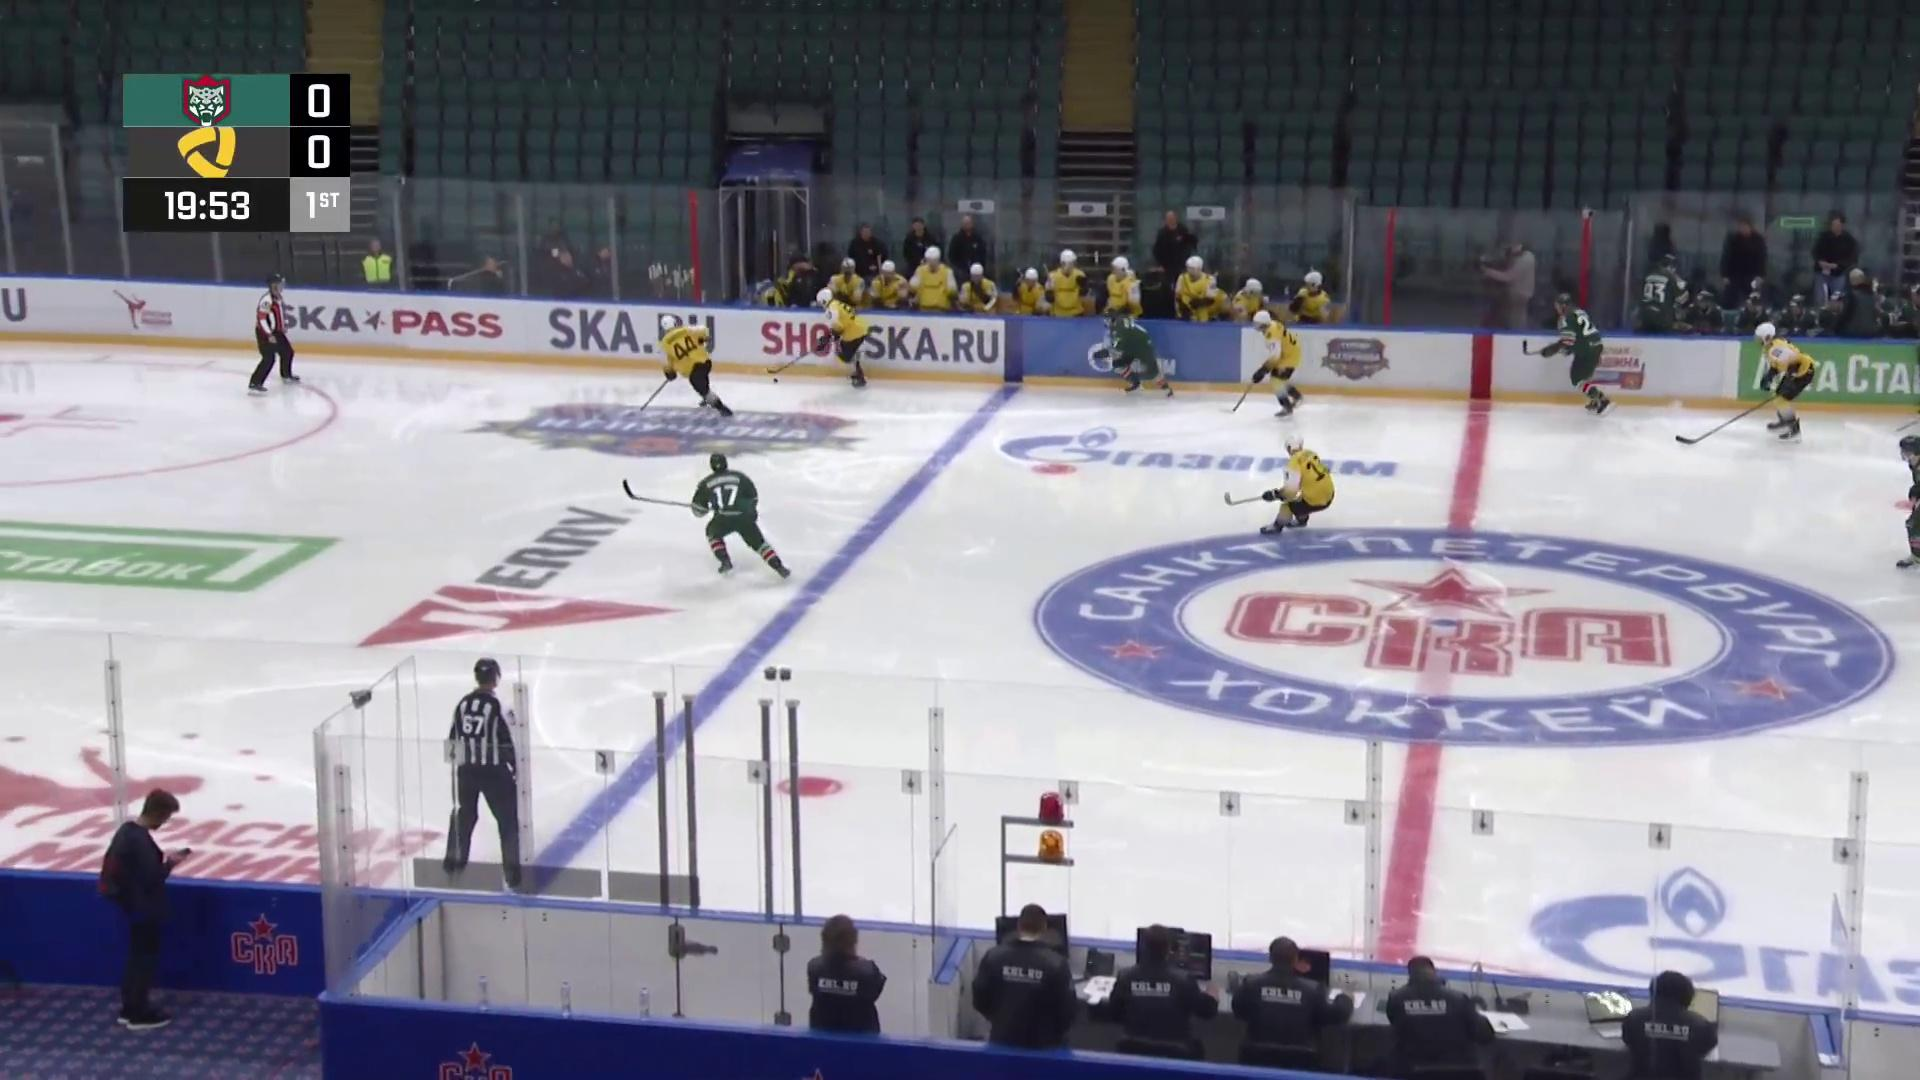ball: (771, 377, 781, 384)
